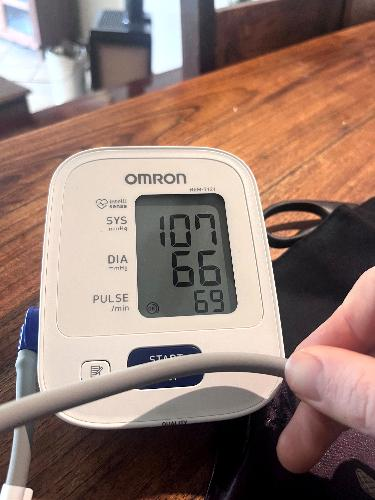bpm: (134, 190, 239, 319)
